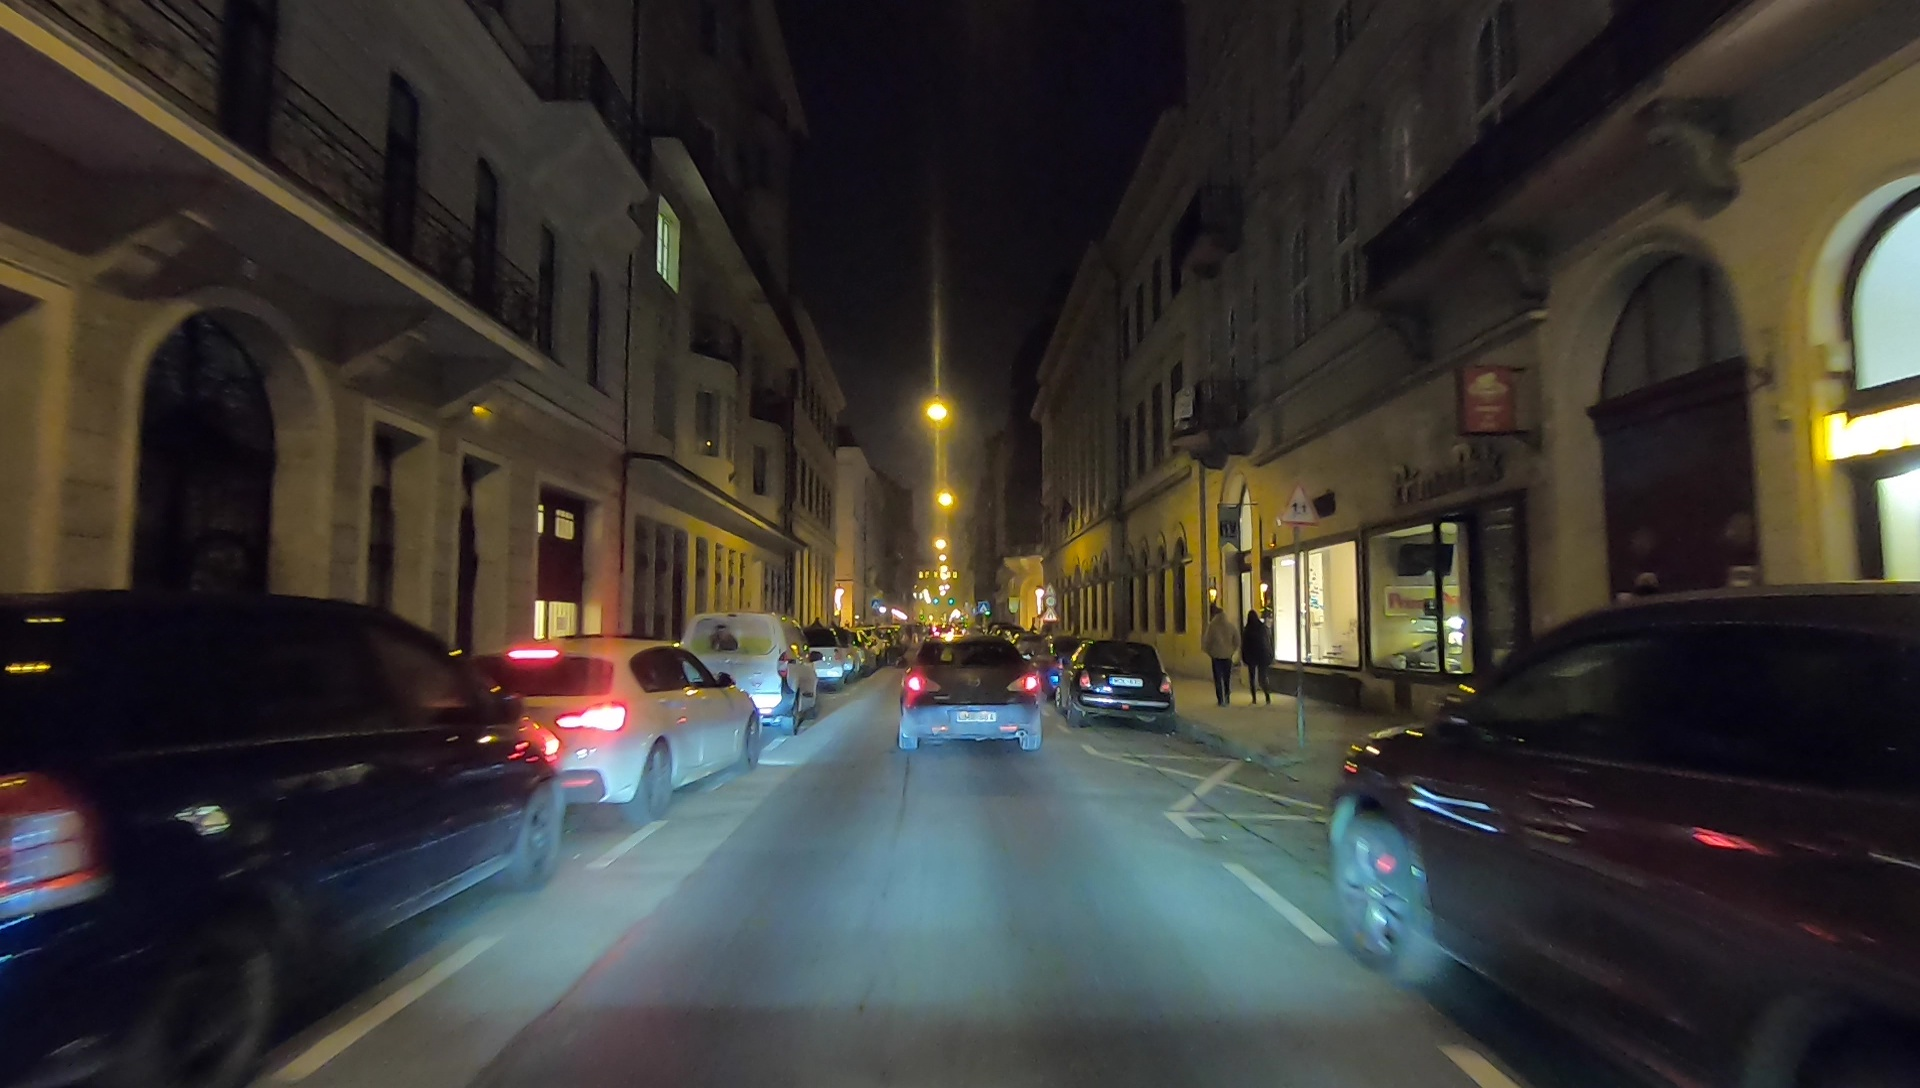person: (1195, 595, 1241, 713), (1239, 610, 1276, 710)
